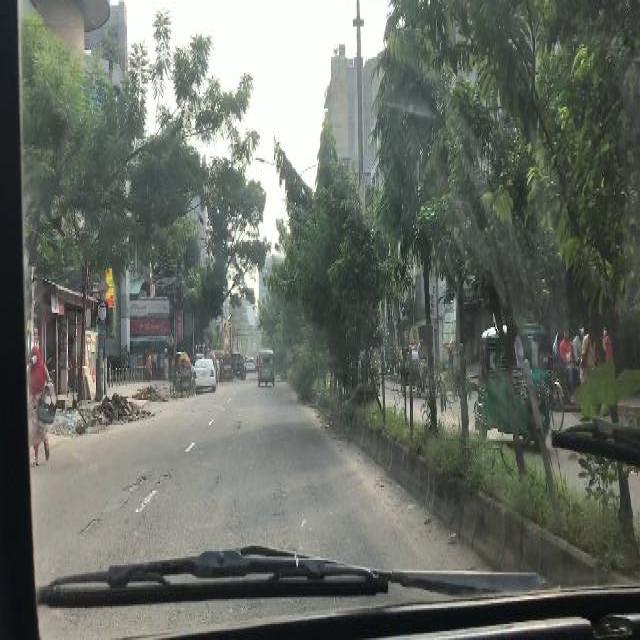car: (193, 360, 215, 387)
rickshaw: (552, 328, 596, 426), (178, 354, 195, 396), (172, 353, 182, 394), (221, 356, 233, 380)
suv: (233, 352, 244, 377), (244, 356, 253, 369)
three wheelers -CNG-: (475, 326, 549, 449), (258, 350, 274, 386)
